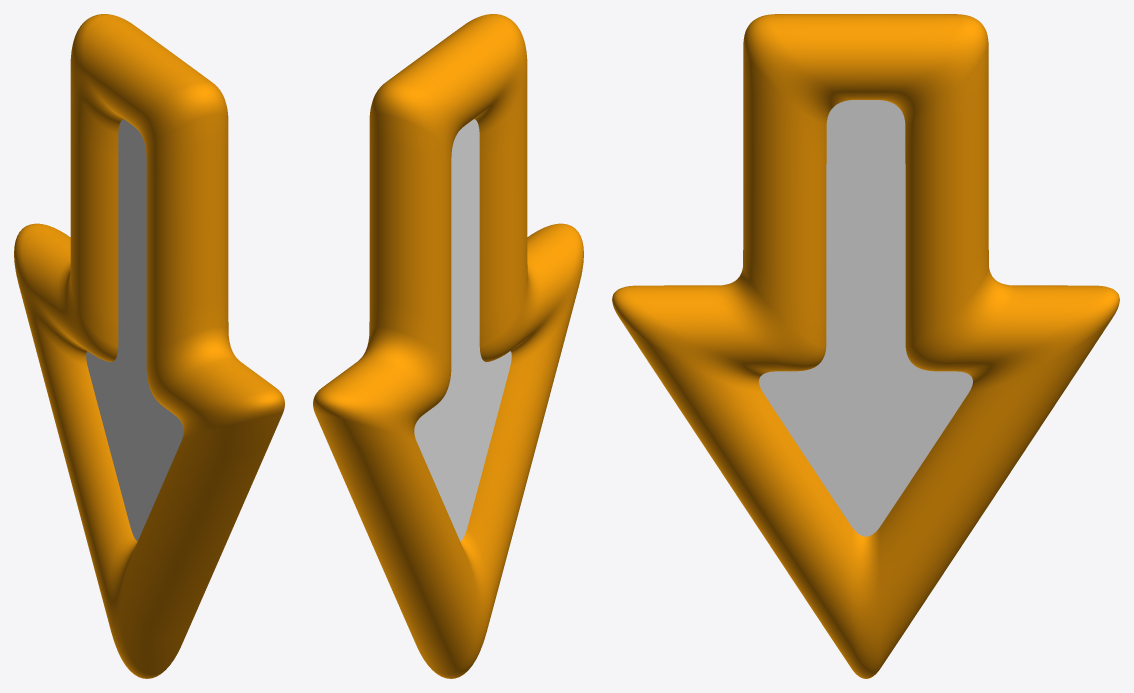
Rendered from SmoothArrow.fbx.
3 renders of one model, left to right at view 1: azimuth 30°, elevation 25°; view 2: azimuth 150°, elevation 25°; view 3: azimuth 270°, elevation 25°, orthographic. The views are drawn at different scales.
Visible parts, largest first — view 1: Line002, Line001; view 2: Line002, Line001; view 3: Line002, Line001.
Part boxes in pixels (bbox=[...]): Line002: bbox=[14, 14, 284, 678]; Line001: bbox=[86, 119, 183, 541]; Line002: bbox=[313, 14, 583, 678]; Line001: bbox=[414, 119, 511, 541]; Line002: bbox=[612, 14, 1119, 678]; Line001: bbox=[759, 100, 972, 536].
Bounding box in the file's own units: 26.41 × 224 × 156.
